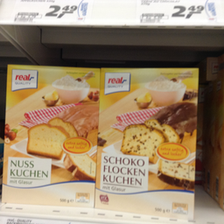cake: (99, 66, 201, 224), (2, 63, 98, 212)
